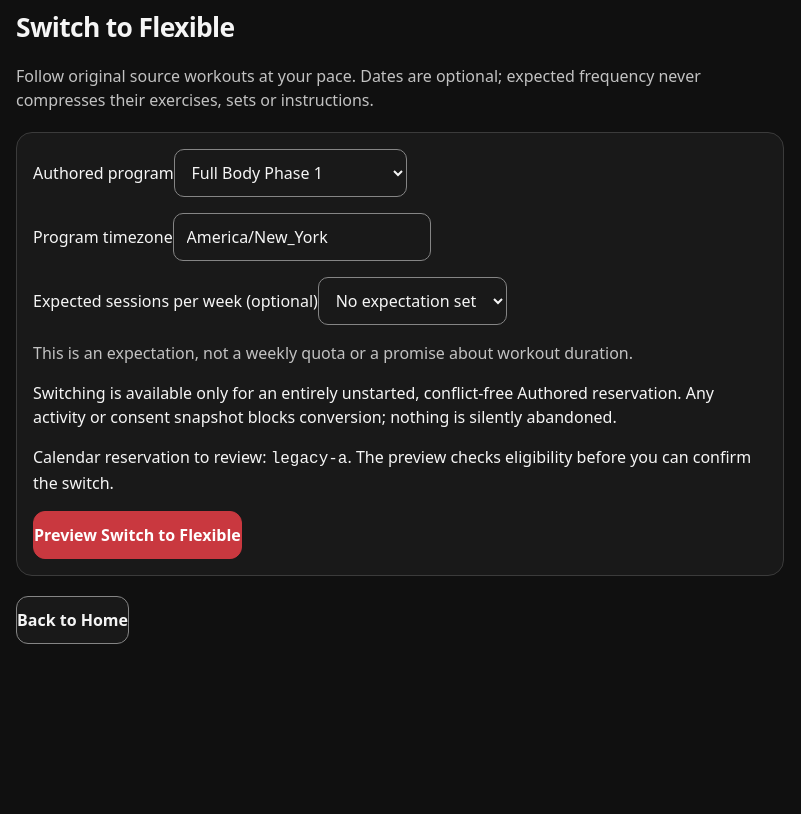
Test: Switch preview binds current reservation and explains retained original grouping
This screenshot has width=801, height=814.
Click the button "Preview Switch to Flexible" at (137, 535), box [33,511,242,559]
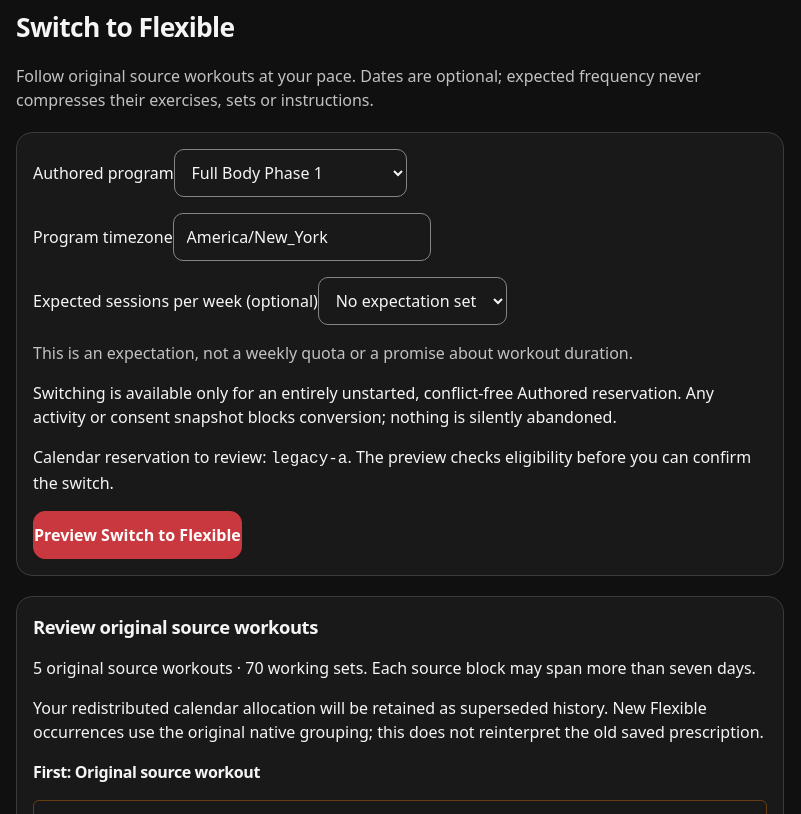
Now the heading "Review original source workouts" is shown, box [33,614,318,639]
